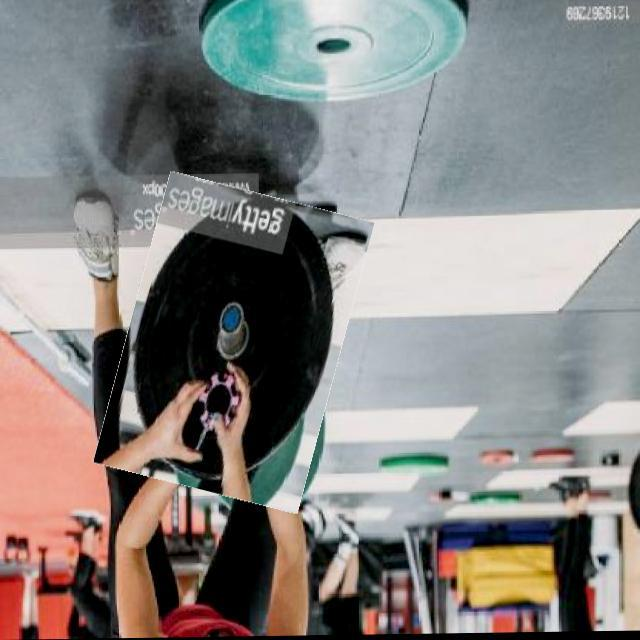barbell: (113, 181, 359, 506)
